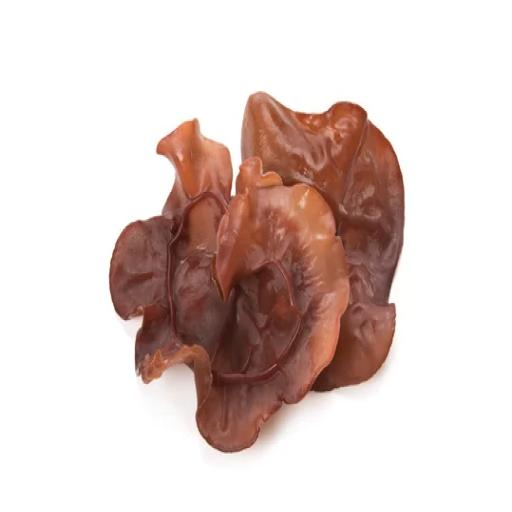Wood Ear Mushroom: (107, 89, 417, 454)
